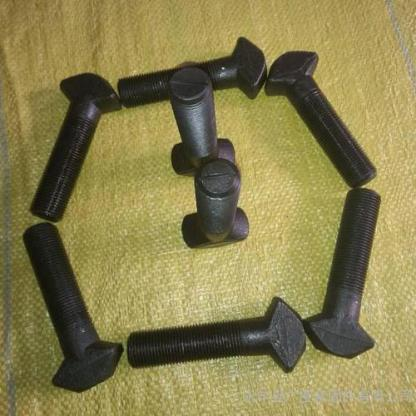FOD: (19, 221, 124, 394), (265, 48, 380, 190), (299, 184, 388, 361), (24, 72, 122, 224), (123, 294, 306, 374), (117, 34, 270, 110), (159, 67, 237, 180), (179, 161, 251, 253)
